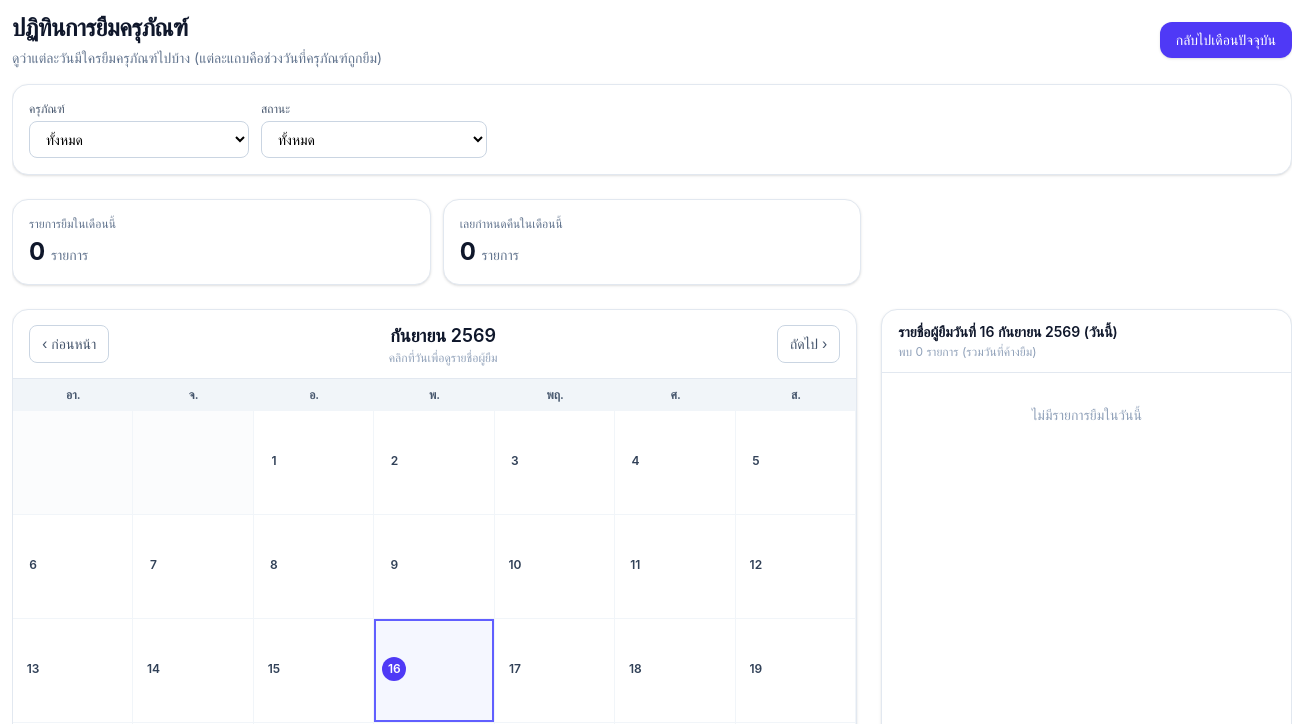
Scenario: BorrowCalendarView.vue › ย้อนกลับไปเดือนก่อนและเดือนถัดไปได้
Click the button "‹ ก่อนหน้า": (69, 344) left=29, top=325, right=109, bottom=363
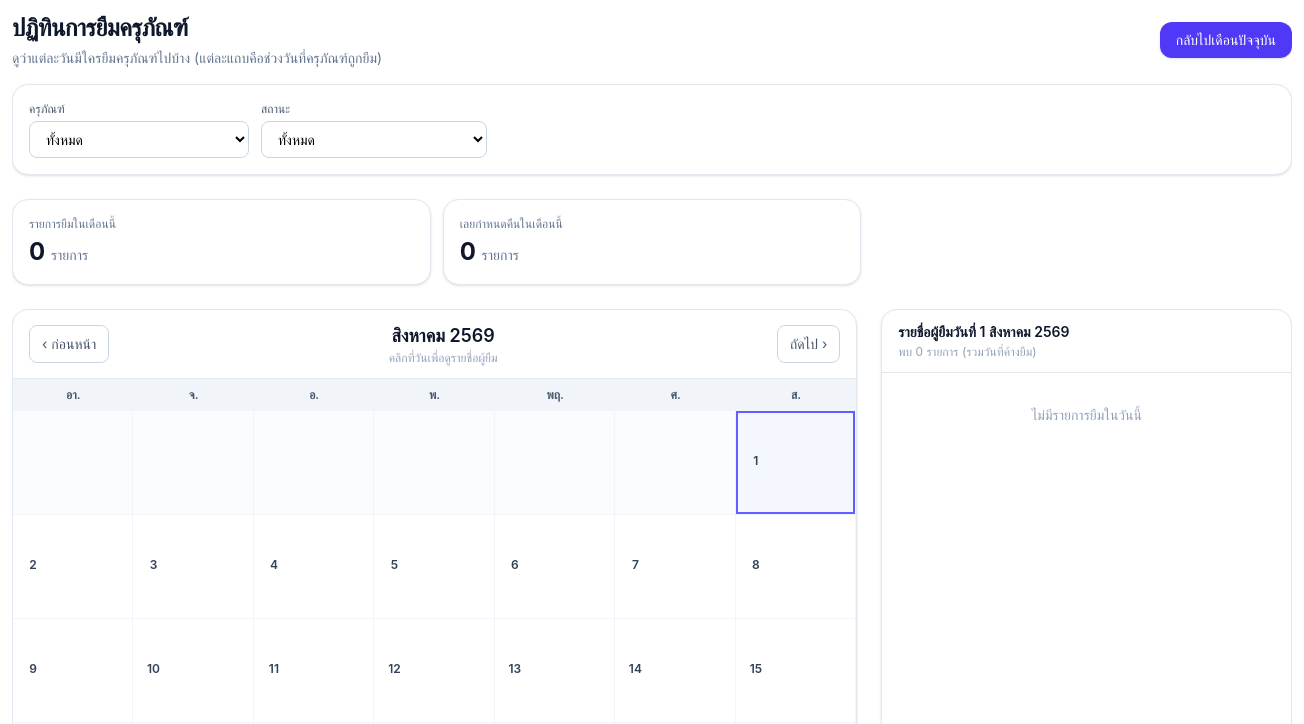
Expected: the text "สิงหาคม 2569" is shown, left=389, top=322, right=498, bottom=350
Click the button "ถัดไป ›": (809, 344) left=777, top=325, right=840, bottom=363
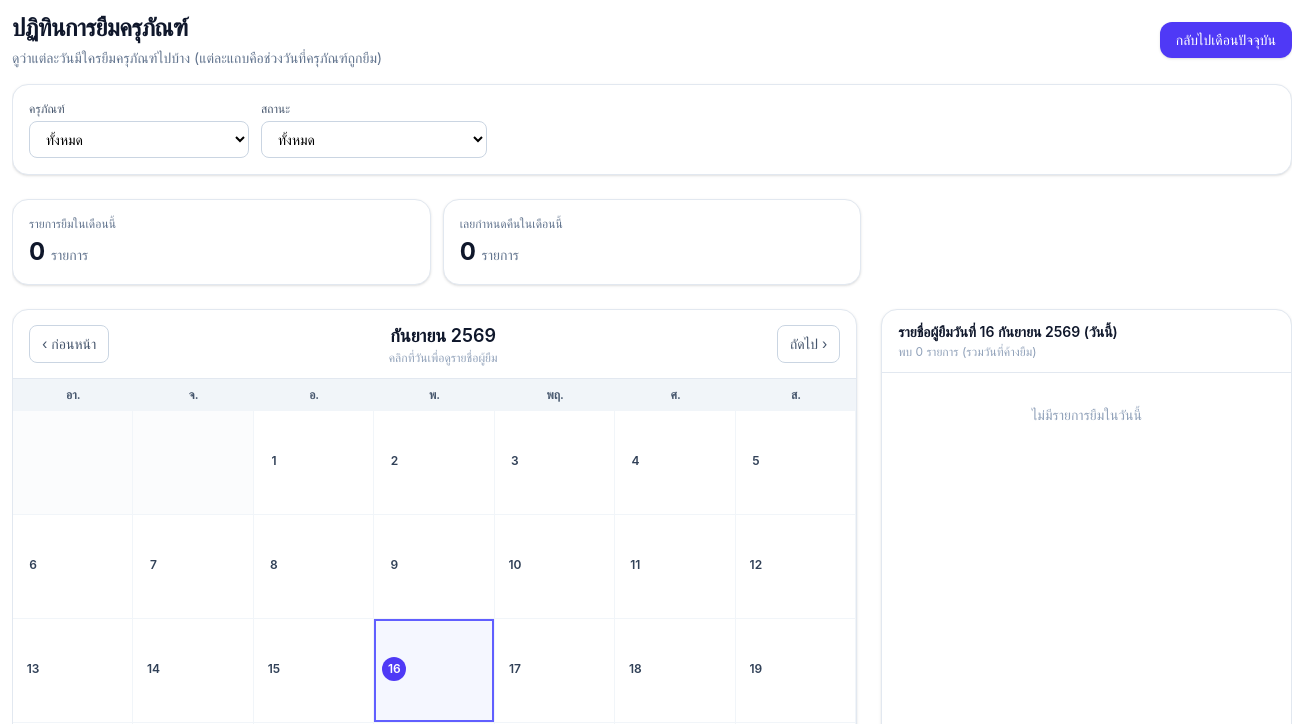
Expected: the text "กันยายน 2569" is shown, left=389, top=322, right=498, bottom=350
